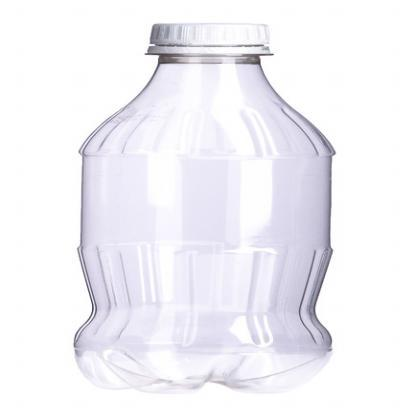bottle: (51, 1, 342, 405)
